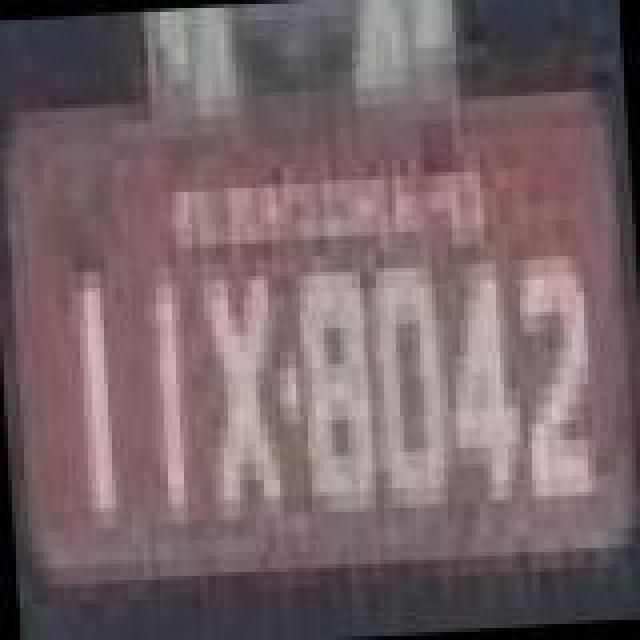1: (72, 260, 120, 524), (146, 268, 190, 516)
2: (516, 250, 604, 502)
4: (446, 258, 530, 510)
8: (292, 256, 380, 512)
O: (362, 254, 454, 514)
X: (200, 254, 288, 522)
